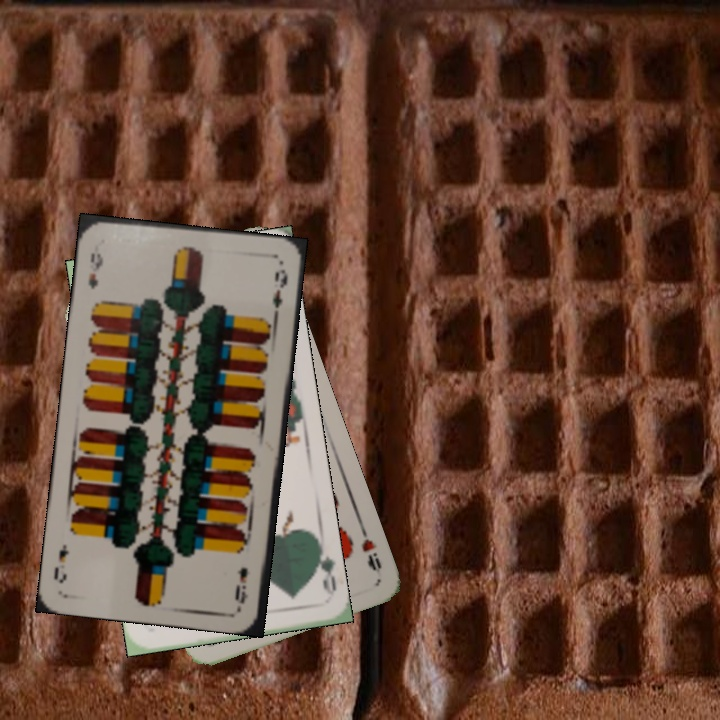E9: (84, 249, 106, 291), (231, 563, 251, 606)
GO: (310, 540, 339, 598)
H9: (355, 521, 384, 579)
